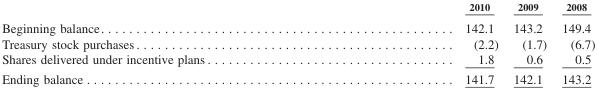table: (1, 0, 594, 85)
table column: (1, 0, 337, 85), (337, 0, 505, 85), (505, 0, 553, 85), (553, 0, 594, 85)
table column header: (1, 0, 594, 16)
table row: (1, 16, 594, 35), (1, 51, 594, 68), (1, 68, 594, 85), (1, 0, 594, 16), (1, 35, 594, 51)
